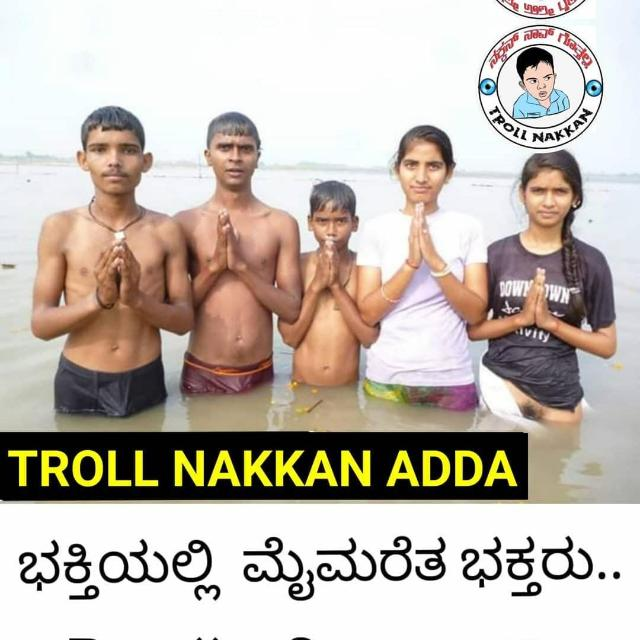person: (160, 95, 296, 429), (38, 97, 180, 411), (370, 117, 476, 351), (298, 181, 380, 397)
